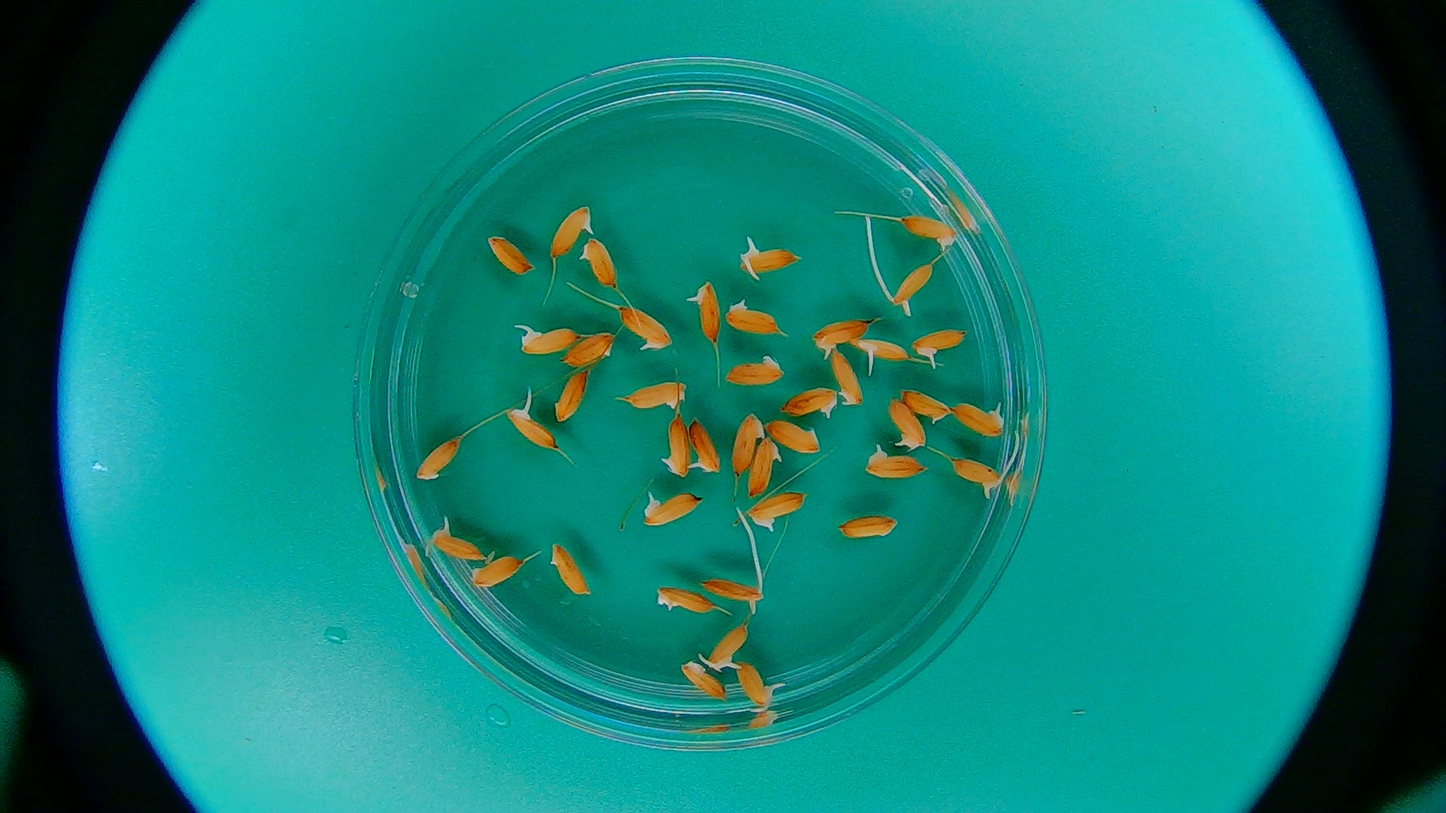no: (561, 327, 618, 372), (410, 434, 462, 483), (762, 416, 823, 455), (550, 541, 590, 598), (719, 356, 786, 389), (554, 367, 590, 428), (831, 349, 866, 410), (654, 583, 720, 615), (733, 408, 761, 474), (628, 381, 688, 411), (470, 558, 525, 590), (901, 390, 956, 422), (779, 388, 840, 416), (681, 663, 725, 701), (489, 236, 534, 273), (725, 305, 780, 334), (837, 516, 898, 542), (902, 217, 959, 244)
yes: (684, 413, 724, 476), (658, 412, 692, 480), (550, 206, 593, 259), (743, 492, 804, 528), (518, 322, 579, 358), (748, 437, 784, 498), (618, 309, 670, 351), (703, 623, 749, 670), (698, 577, 763, 610), (954, 400, 1006, 441), (862, 450, 925, 483), (881, 402, 925, 449), (813, 318, 873, 352), (510, 408, 556, 452), (889, 262, 935, 306), (950, 458, 1007, 493), (641, 491, 700, 524), (734, 660, 772, 711), (429, 531, 486, 563), (852, 334, 911, 364), (913, 329, 971, 356), (584, 238, 614, 290), (693, 281, 718, 343), (739, 247, 793, 275)
